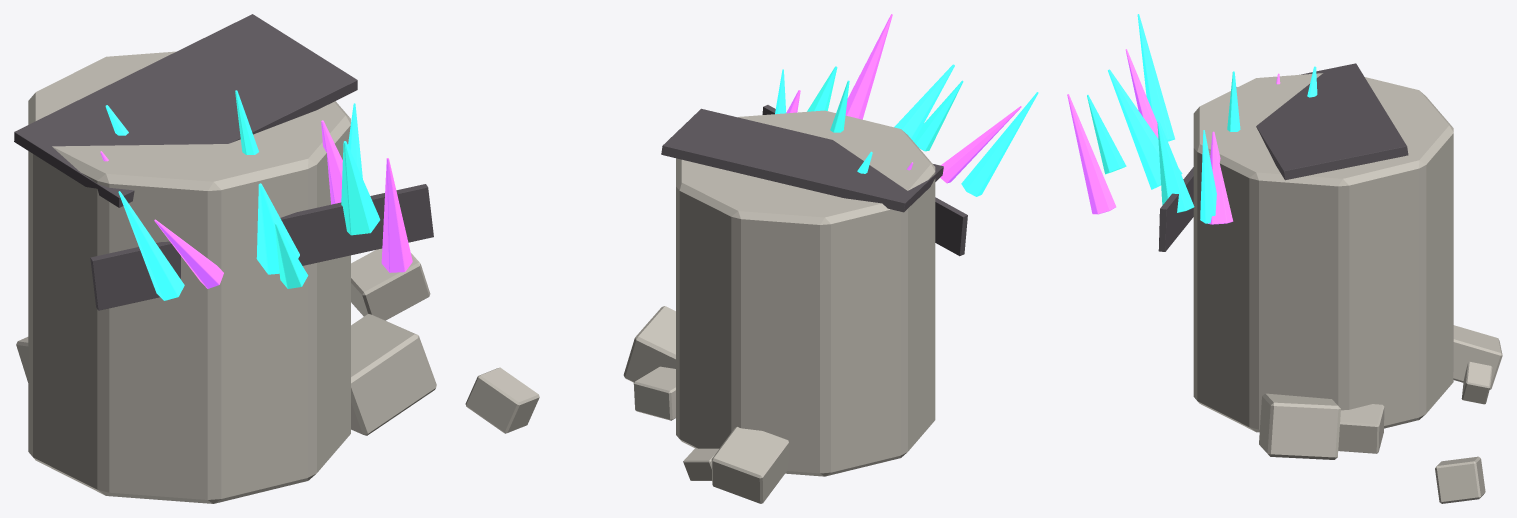
Rendered from runtime.glb.
3 views of the same model, side by side, from view 1: azimuth 30°, elevation 25°; view 2: azimuth 150°, elevation 25°; view 3: azimuth 270°, elevation 25° (orthographic). The views are drawn at different scales.
Parts seen in each view (by area): view 1: crystal-ruins-crystal-growth-v08_host_column_nocol, crystal-ruins-crystal-growth-v08_fracture_00_nocol, crystal-ruins-crystal-growth-v08_fracture_01_nocol, crystal-ruins-crystal-growth-v08_stone_12_nocol, crystal-ruins-crystal-growth-v08_stone_13_nocol, crystal-ruins-crystal-growth-v08_crystal_11_nocol, crystal-ruins-crystal-growth-v08_crystal_10_nocol, crystal-ruins-crystal-growth-v08_crystal_06_nocol, crystal-ruins-crystal-growth-v08_crystal_09_nocol, crystal-ruins-crystal-growth-v08_crystal_07_nocol, crystal-ruins-crystal-growth-v08_crystal_08_nocol, crystal-ruins-crystal-growth-v08_crystal_01_nocol (+2 smaller); view 2: crystal-ruins-crystal-growth-v08_host_column_nocol, crystal-ruins-crystal-growth-v08_fracture_00_nocol, crystal-ruins-crystal-growth-v08_stone_15_nocol, crystal-ruins-crystal-growth-v08_stone_13_nocol, crystal-ruins-crystal-growth-v08_stone_12_nocol, crystal-ruins-crystal-growth-v08_stone_10_nocol, crystal-ruins-crystal-growth-v08_crystal_06_nocol, crystal-ruins-crystal-growth-v08_fracture_01_nocol, crystal-ruins-crystal-growth-v08_crystal_10_nocol, crystal-ruins-crystal-growth-v08_crystal_09_nocol, crystal-ruins-crystal-growth-v08_crystal_07_nocol, crystal-ruins-crystal-growth-v08_crystal_08_nocol (+1 smaller); view 3: crystal-ruins-crystal-growth-v08_host_column_nocol, crystal-ruins-crystal-growth-v08_fracture_00_nocol, crystal-ruins-crystal-growth-v08_stone_12_nocol, crystal-ruins-crystal-growth-v08_stone_10_nocol, crystal-ruins-crystal-growth-v08_stone_13_nocol, crystal-ruins-crystal-growth-v08_crystal_09_nocol, crystal-ruins-crystal-growth-v08_stone_15_nocol, crystal-ruins-crystal-growth-v08_crystal_10_nocol, crystal-ruins-crystal-growth-v08_crystal_11_nocol, crystal-ruins-crystal-growth-v08_fracture_01_nocol, crystal-ruins-crystal-growth-v08_crystal_06_nocol, crystal-ruins-crystal-growth-v08_stone_11_nocol (+5 smaller).
Part boxes in pixels (x1,y1,x2,y2): crystal-ruins-crystal-growth-v08_host_column_nocol: (28,51,350,503); crystal-ruins-crystal-growth-v08_fracture_00_nocol: (14,14,357,207); crystal-ruins-crystal-growth-v08_fracture_01_nocol: (90,184,433,310); crystal-ruins-crystal-growth-v08_stone_12_nocol: (351,314,436,435); crystal-ruins-crystal-growth-v08_stone_13_nocol: (351,248,430,320); crystal-ruins-crystal-growth-v08_crystal_11_nocol: (341,141,380,235); crystal-ruins-crystal-growth-v08_crystal_10_nocol: (381,158,412,272); crystal-ruins-crystal-growth-v08_crystal_06_nocol: (118,191,184,300); crystal-ruins-crystal-growth-v08_crystal_09_nocol: (256,183,299,274); crystal-ruins-crystal-growth-v08_crystal_07_nocol: (154,219,223,288); crystal-ruins-crystal-growth-v08_crystal_08_nocol: (274,223,308,288); crystal-ruins-crystal-growth-v08_crystal_01_nocol: (321,120,342,204); crystal-ruins-crystal-growth-v08_host_column_nocol: (676,110,935,476); crystal-ruins-crystal-growth-v08_fracture_00_nocol: (661,108,943,212); crystal-ruins-crystal-growth-v08_stone_15_nocol: (711,427,789,503); crystal-ruins-crystal-growth-v08_stone_13_nocol: (465,367,539,433); crystal-ruins-crystal-growth-v08_stone_12_nocol: (623,306,675,382); crystal-ruins-crystal-growth-v08_stone_10_nocol: (633,366,675,420); crystal-ruins-crystal-growth-v08_crystal_06_nocol: (961,92,1038,196); crystal-ruins-crystal-growth-v08_fracture_01_nocol: (762,105,967,256); crystal-ruins-crystal-growth-v08_crystal_10_nocol: (845,14,892,119); crystal-ruins-crystal-growth-v08_crystal_09_nocol: (894,64,954,141); crystal-ruins-crystal-growth-v08_crystal_07_nocol: (940,106,1021,183); crystal-ruins-crystal-growth-v08_crystal_08_nocol: (914,80,963,151); crystal-ruins-crystal-growth-v08_host_column_nocol: (1193,73,1453,432); crystal-ruins-crystal-growth-v08_fracture_00_nocol: (1236,63,1408,180); crystal-ruins-crystal-growth-v08_stone_12_nocol: (1259,393,1340,459); crystal-ruins-crystal-growth-v08_stone_10_nocol: (1338,404,1384,453); crystal-ruins-crystal-growth-v08_stone_13_nocol: (1435,456,1485,503); crystal-ruins-crystal-growth-v08_crystal_09_nocol: (1108,69,1182,189); crystal-ruins-crystal-growth-v08_stone_15_nocol: (1453,325,1502,389); crystal-ruins-crystal-growth-v08_crystal_10_nocol: (1067,94,1116,214); crystal-ruins-crystal-growth-v08_crystal_11_nocol: (1157,121,1194,212); crystal-ruins-crystal-growth-v08_fracture_01_nocol: (1158,167,1193,251); crystal-ruins-crystal-growth-v08_crystal_06_nocol: (1137,14,1174,141); crystal-ruins-crystal-growth-v08_stone_11_nocol: (1461,361,1492,404).
Size of the model in its own units: 4.71 by 3.61 by 4.4.
